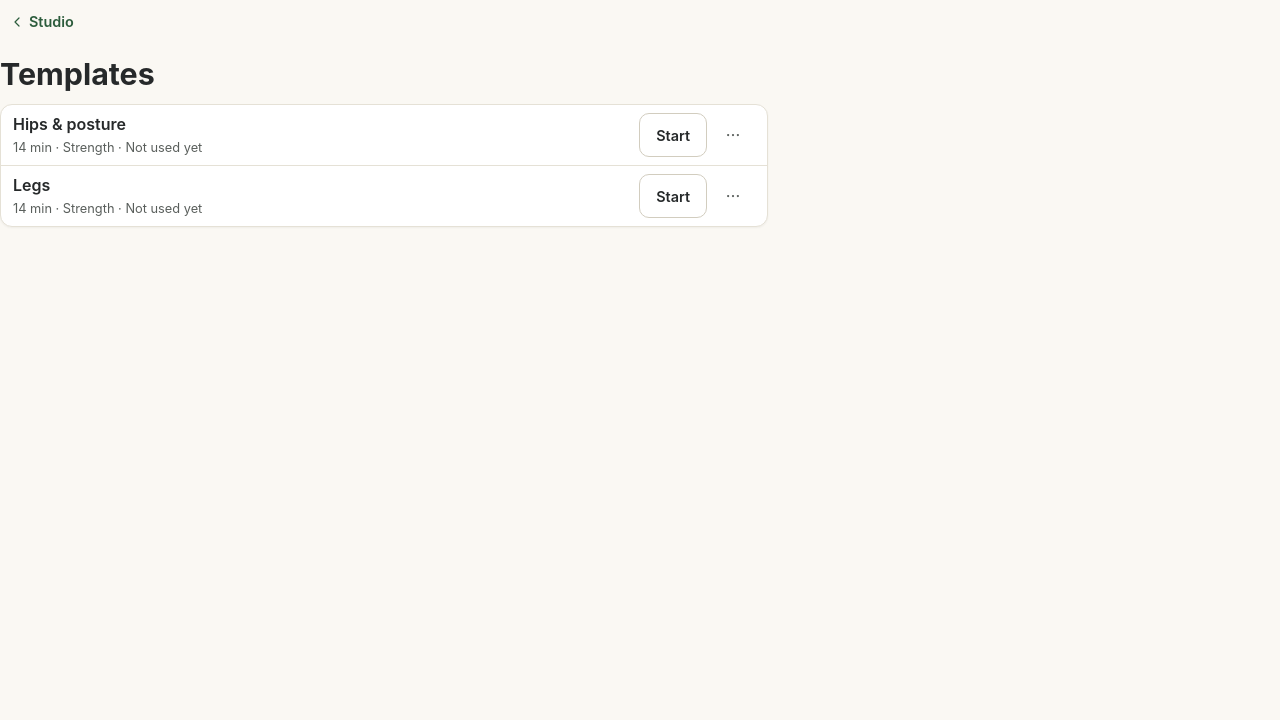
Test case: a template deleted elsewhere (the server answers 404) › Pin says it is gone, the list is read again without it, and focus goes to the next row's name
Click the button named "Hips & posture: more".
click(733, 136)  # box x1=711 y1=114 x2=755 y2=158
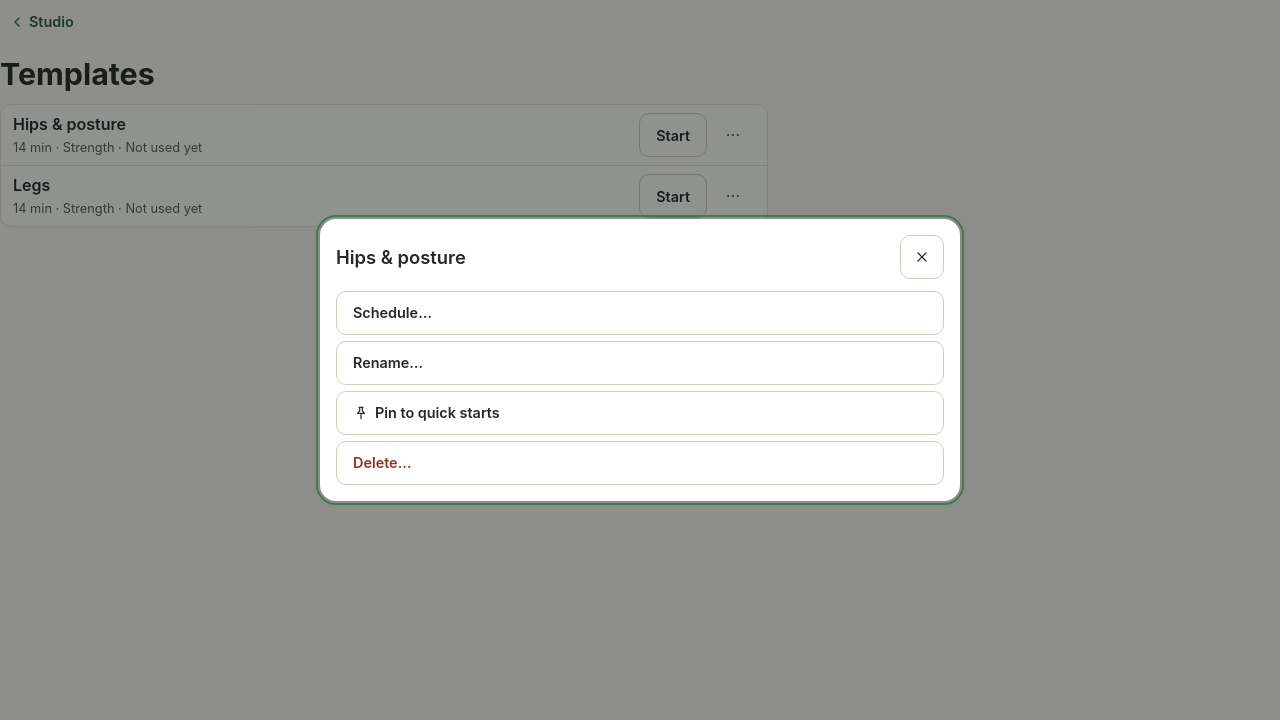
Click the button "Pin to quick starts".
click(437, 413)  # box x1=336 y1=391 x2=944 y2=435
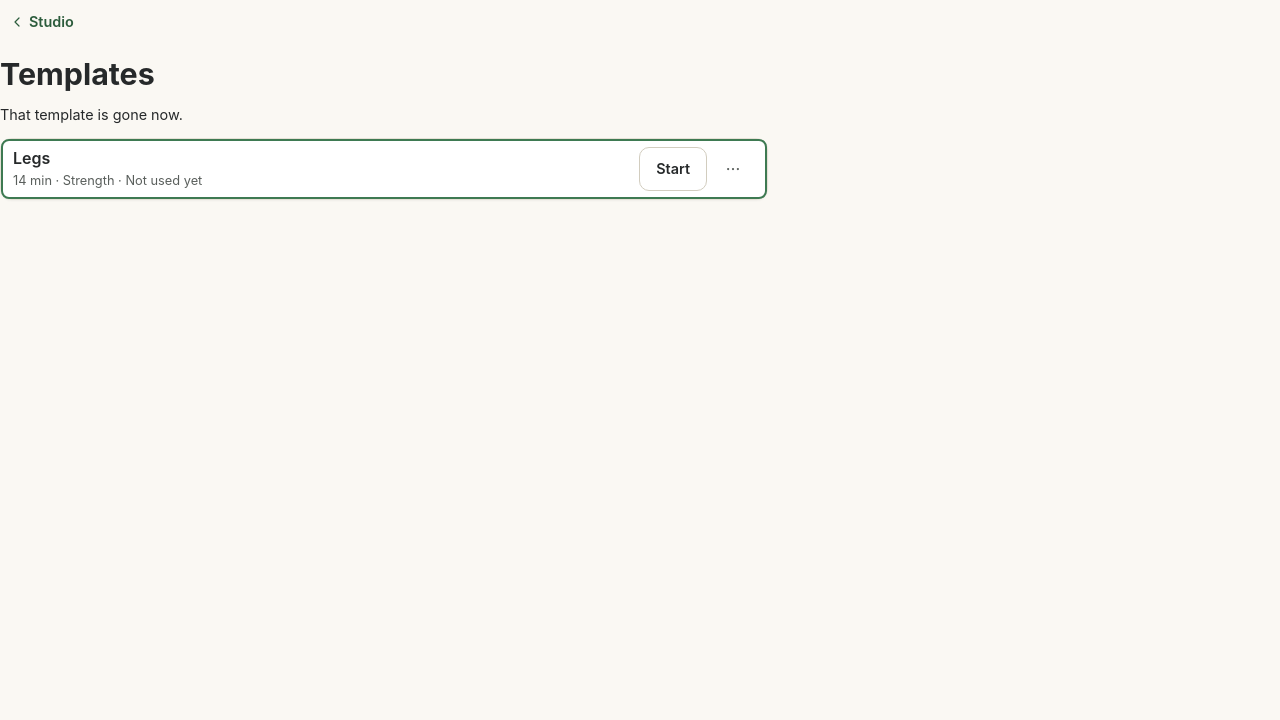
Check: the text "That template is gone now." is shown, box x1=0 y1=106 x2=183 y2=124
